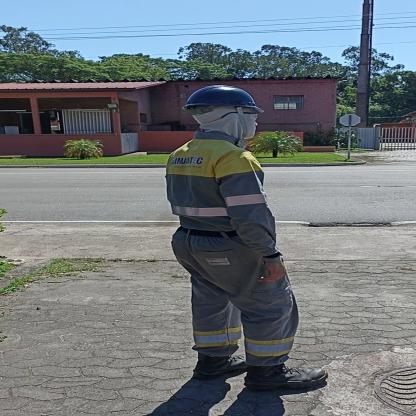Balaclava: (192, 106, 258, 140)
Capacete: (186, 83, 268, 109)
